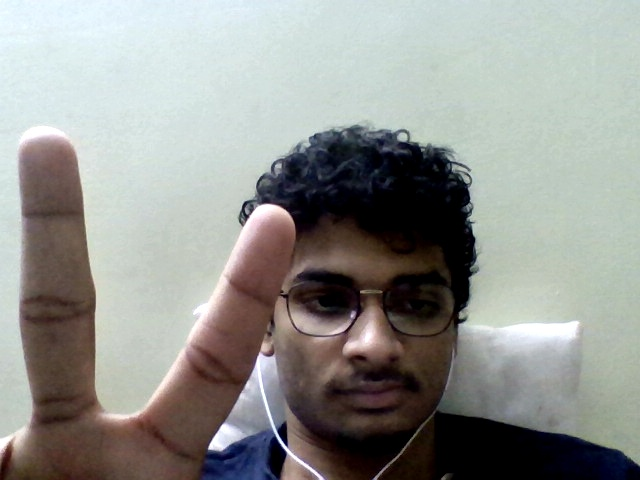ThankYou: (7, 128, 298, 461)
